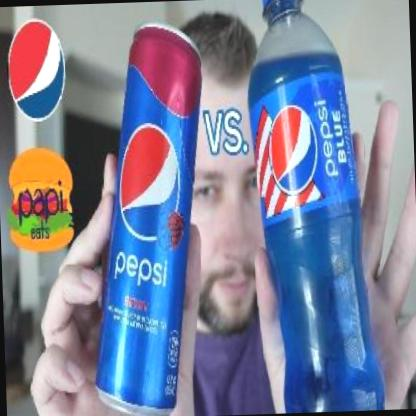alumunium_can: (82, 17, 214, 416)
